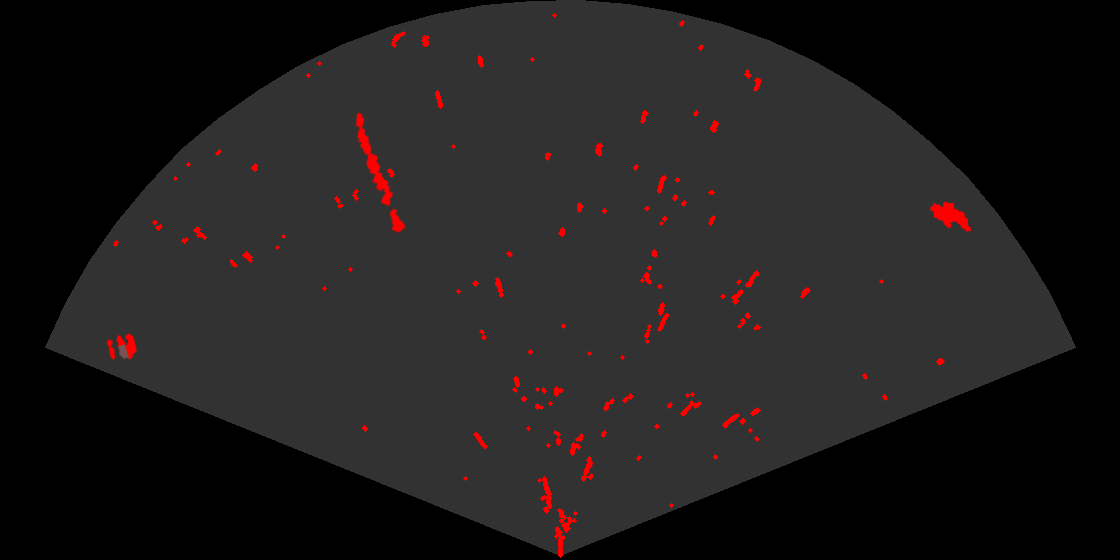AUV: (929, 200, 973, 233)
ball: (105, 332, 139, 361)
chain: (354, 111, 407, 234)
